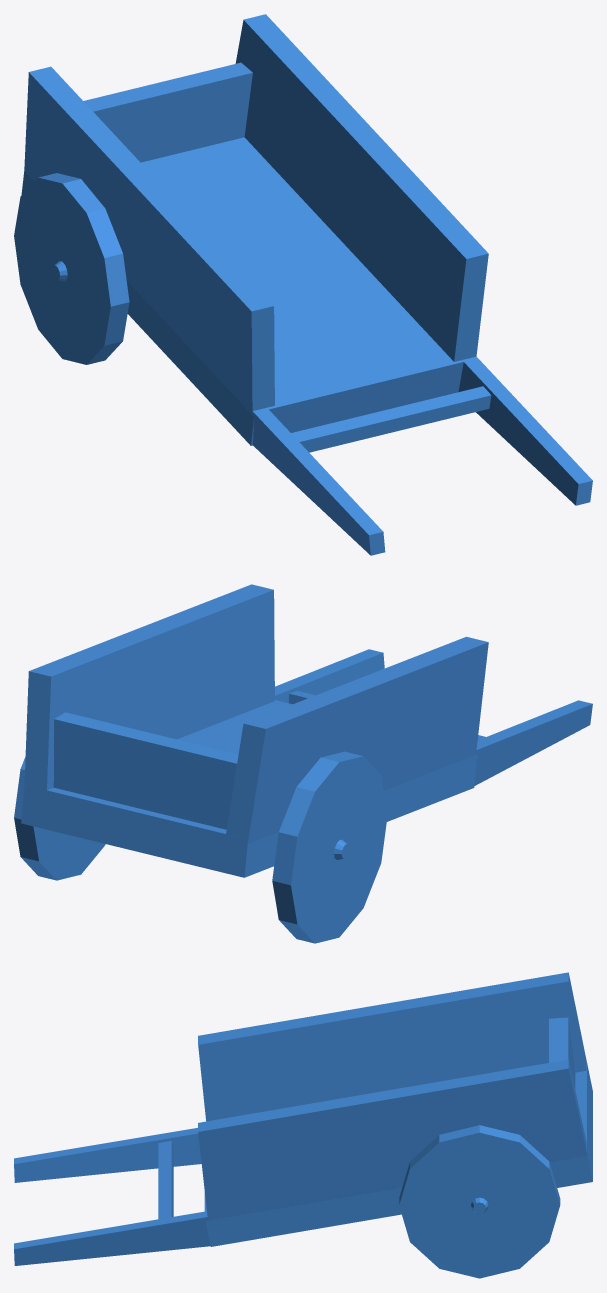
File: Collision_Prop_Wagon.fbx
3 views of the same model, one above another, from view 1: azimuth 30°, elevation 25°; view 2: azimuth 150°, elevation 25°; view 3: azimuth 270°, elevation 25° (orthographic). The views are drawn at different scales.
Parts seen in each view (by area): view 1: UCX_Prop_Wagon_01; view 2: UCX_Prop_Wagon_01; view 3: UCX_Prop_Wagon_01.
Boxes of the visible parts, x1,y1,x2,y2 form: UCX_Prop_Wagon_01: (14,14,592,555); UCX_Prop_Wagon_01: (14,584,592,943); UCX_Prop_Wagon_01: (14,972,592,1278).
Bounding box in the file's own units: 194 × 156 × 404.
